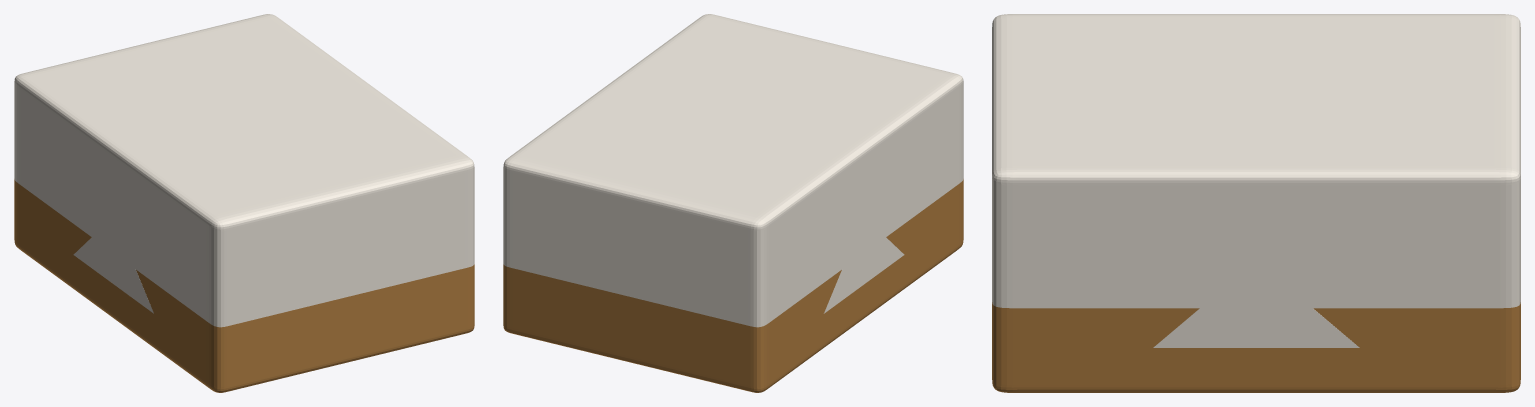
File: mark-ii.glb
3 views of the same model, side by side, from view 1: azimuth 30°, elevation 25°; view 2: azimuth 150°, elevation 25°; view 3: azimuth 270°, elevation 25° (orthographic). The views are drawn at different scales.
Parts seen in each view (by area): view 1: BaseTileBody_Ivory, baseTileBody_wood; view 2: BaseTileBody_Ivory, baseTileBody_wood; view 3: BaseTileBody_Ivory, baseTileBody_wood.
Part boxes in pixels (bbox=[...]): BaseTileBody_Ivory: bbox=[14, 14, 474, 327]; baseTileBody_wood: bbox=[14, 179, 474, 392]; BaseTileBody_Ivory: bbox=[503, 14, 963, 327]; baseTileBody_wood: bbox=[503, 179, 963, 392]; BaseTileBody_Ivory: bbox=[992, 14, 1520, 347]; baseTileBody_wood: bbox=[992, 302, 1520, 392].
Bounding box in the file's own units: 0.79 × 0.5 × 1.08.
